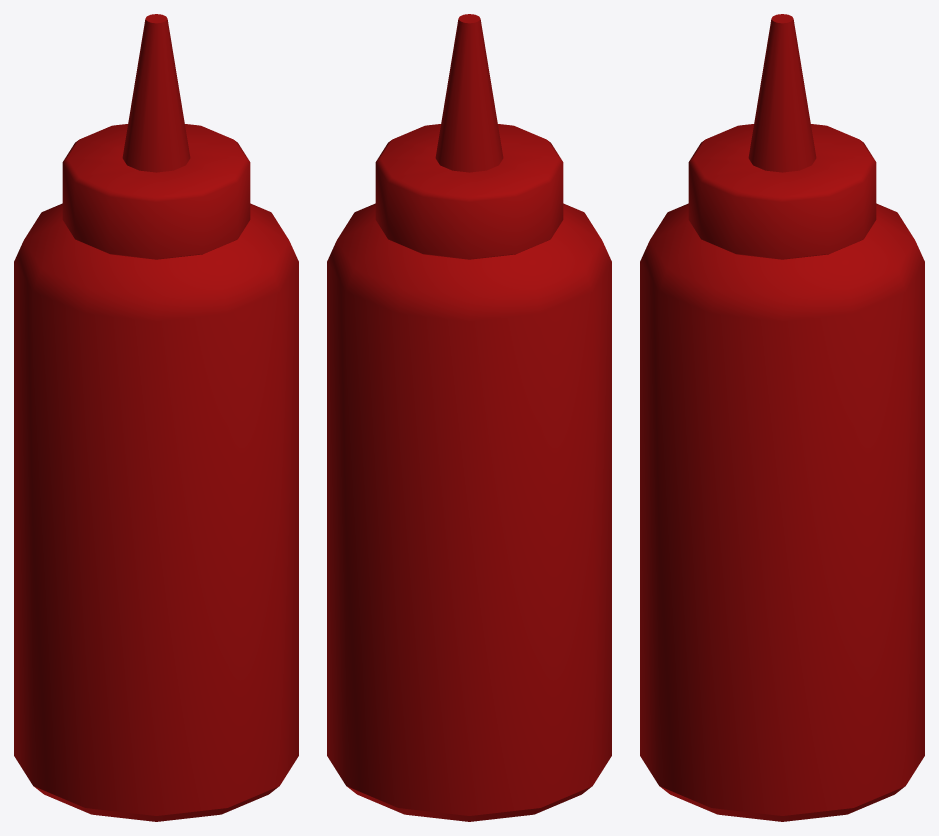
Rendered from PlasticKetchupBottle.FBX.
3 renders of one model, left to right at view 1: azimuth 30°, elevation 25°; view 2: azimuth 150°, elevation 25°; view 3: azimuth 270°, elevation 25°, orthographic.
Parts seen in each view (by area): view 1: PlasticKetchupBottle; view 2: PlasticKetchupBottle; view 3: PlasticKetchupBottle.
Boxes of the visible parts, x1,y1,x2,y2 form: PlasticKetchupBottle: (14, 14, 298, 821); PlasticKetchupBottle: (327, 14, 611, 821); PlasticKetchupBottle: (640, 14, 924, 821).
Bounding box in the file's own units: 26.65 × 77.25 × 26.65.
